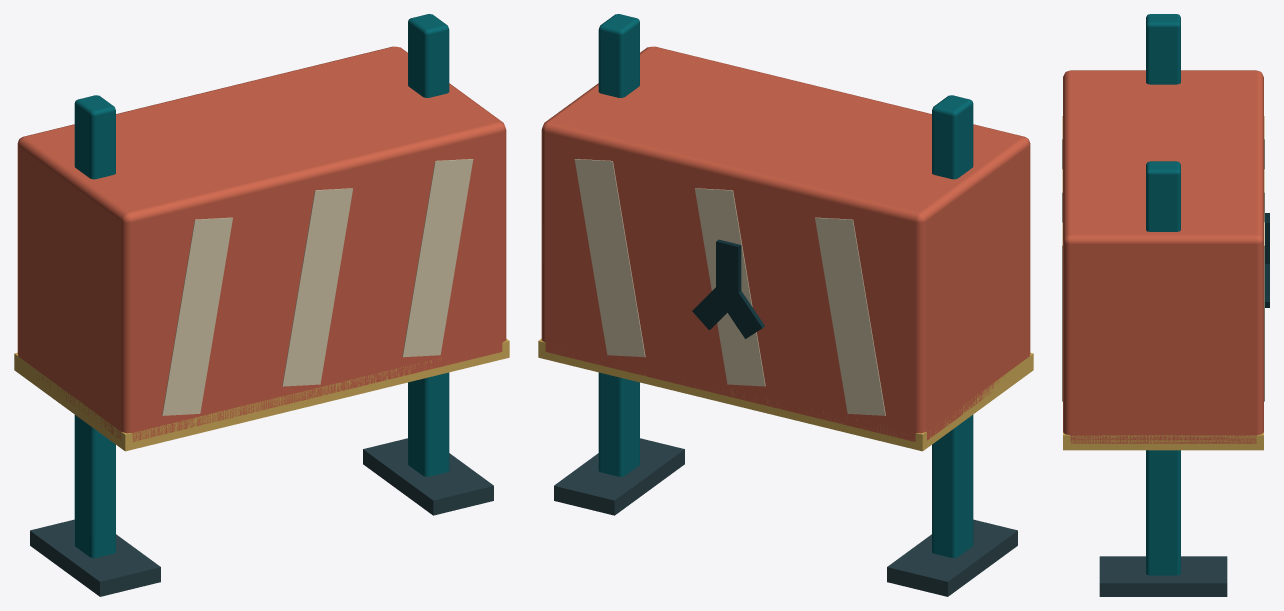
The model's file is barrier.glb.
The picture shows the model from 3 angles, left to right: view 1: azimuth 30°, elevation 25°; view 2: azimuth 150°, elevation 25°; view 3: azimuth 270°, elevation 25°; orthographic projection. The views are drawn at different scales.
Parts seen in each view (by area): view 1: item-barrier; view 2: item-barrier; view 3: item-barrier.
Boxes of the visible parts, x1=… form: item-barrier: x1=14, y1=14, x2=509, y2=596; item-barrier: x1=538, y1=14, x2=1033, y2=596; item-barrier: x1=1062, y1=14, x2=1269, y2=596.
Bounding box in the file's own units: 2.46 × 2.75 × 1.24.
